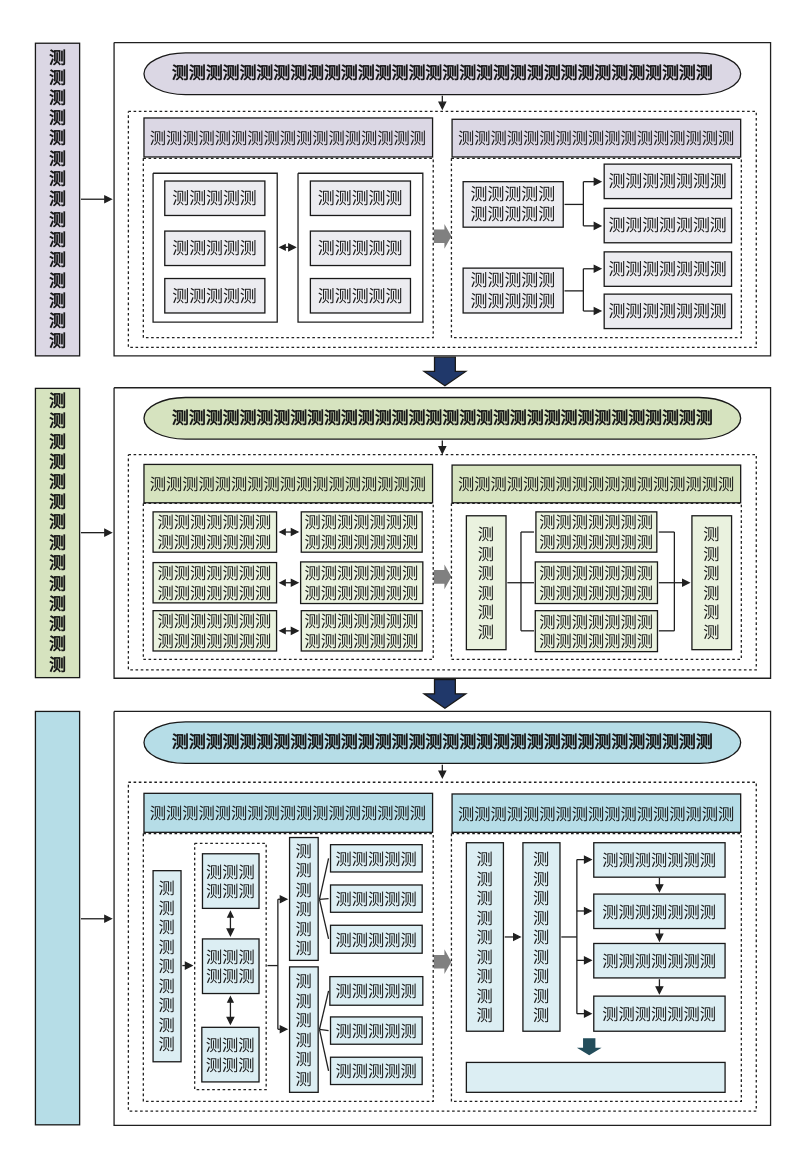
Image size: 806x1155. Some labels were removed from this diagram. Here are the shapes that lost their labels. From the top down, the centre of each, then its label:
(x=57, y=917): 测 测 测 测 测 测 测 测 测 测 测 测 测 测 测 测 测 测 测 测
(x=595, y=1077): 测测测测测测测测测测测测测测测
